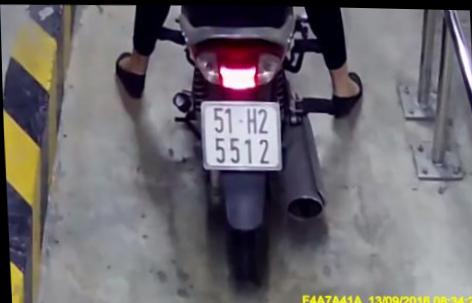LP: (196, 97, 284, 172)
